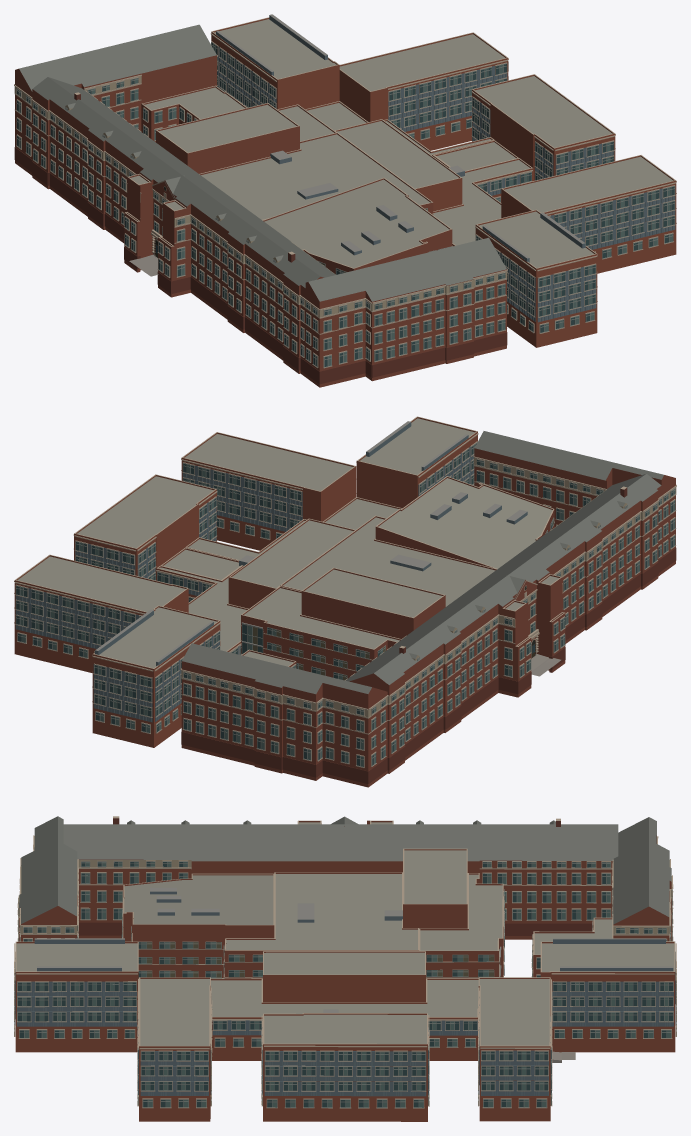
The model's file is site.glb.
3 views of the same model, one above another, from view 1: azimuth 30°, elevation 25°; view 2: azimuth 150°, elevation 25°; view 3: azimuth 270°, elevation 25° (orthographic).
Parts seen in each view (by area): view 1: roof-5ded2bf0, roof-f01c8434; view 2: roof-5ded2bf0, roof-f01c8434; view 3: roof-f01c8434, roof-5ded2bf0.
Part boxes in pixels (<box>): roof-5ded2bf0: <box>14,24,507,387</box>; roof-f01c8434: <box>210,14,676,347</box>; roof-5ded2bf0: <box>180,431,676,787</box>; roof-f01c8434: <box>14,416,478,747</box>; roof-f01c8434: <box>14,938,676,1121</box>; roof-5ded2bf0: <box>17,816,673,978</box>.
Size of the model in its own units: 78.13 by 18.14 by 101.
